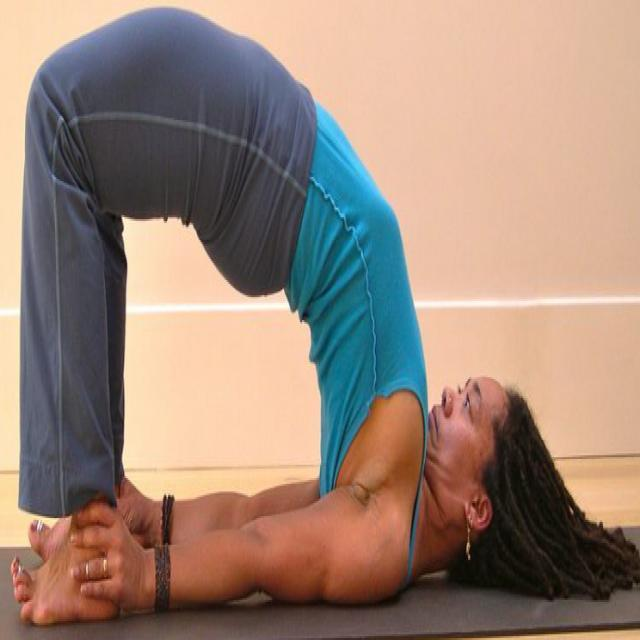yoga-pose bridge: (9, 12, 558, 620)
